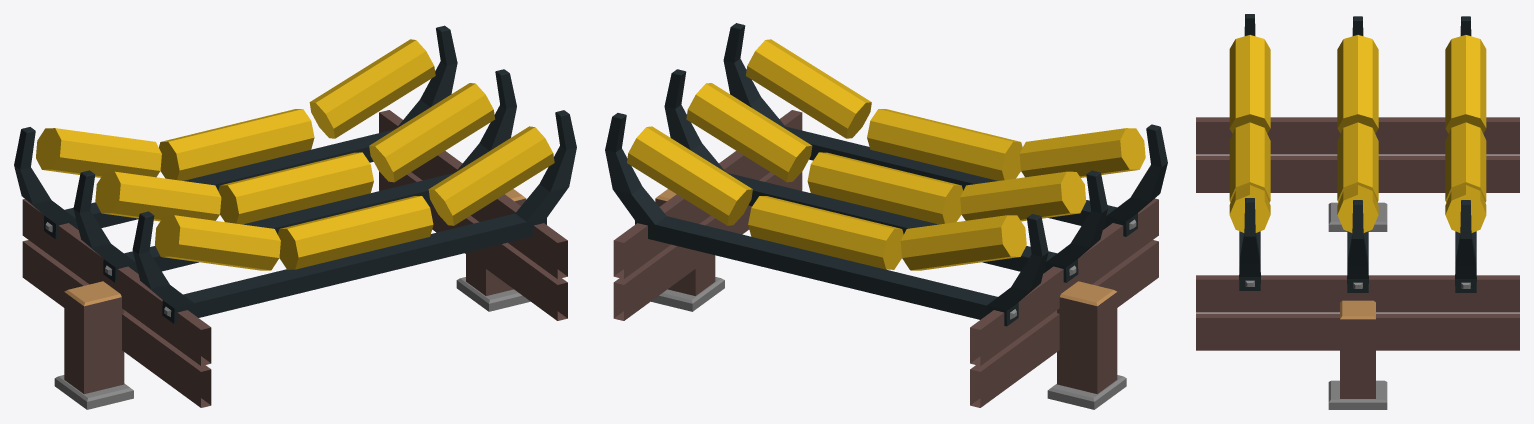
File: Esteira.fbx
3 renders of one model, left to right at view 1: azimuth 30°, elevation 25°; view 2: azimuth 150°, elevation 25°; view 3: azimuth 270°, elevation 25°, orthographic. The views are drawn at different scales.
Parts seen in each view (by area): view 1: EsteiraMeio; view 2: EsteiraMeio; view 3: EsteiraMeio.
Boxes of the visible parts, left/top/right/bottom form: EsteiraMeio: left=14, top=25, right=576, bottom=409; EsteiraMeio: left=605, top=23, right=1167, bottom=409; EsteiraMeio: left=1196, top=14, right=1519, bottom=409.
Bounding box in the file's own units: 871 × 415 × 600.
